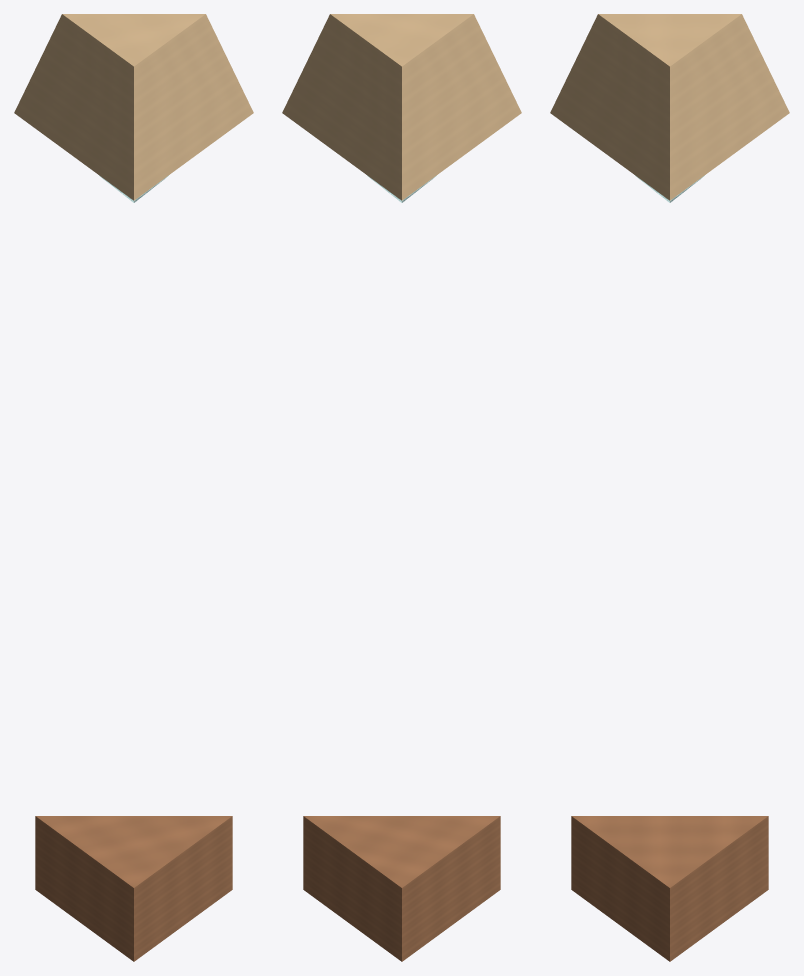
The model's file is atlas100-desertdeco-util01.lod2.glb.
3 renders of one model, left to right at view 1: azimuth 30°, elevation 25°; view 2: azimuth 150°, elevation 25°; view 3: azimuth 270°, elevation 25°, orthographic.
Visible parts, largest first — view 1: atlas100-desertdeco-util01:part-002, atlas100-desertdeco-util01:part-000; view 2: atlas100-desertdeco-util01:part-002, atlas100-desertdeco-util01:part-000; view 3: atlas100-desertdeco-util01:part-002, atlas100-desertdeco-util01:part-000.
Part boxes in pixels (x1,y1,x2,y2): atlas100-desertdeco-util01:part-002: (14, 14, 253, 200); atlas100-desertdeco-util01:part-000: (35, 816, 232, 961); atlas100-desertdeco-util01:part-002: (282, 14, 521, 200); atlas100-desertdeco-util01:part-000: (303, 816, 500, 961); atlas100-desertdeco-util01:part-002: (550, 14, 789, 200); atlas100-desertdeco-util01:part-000: (571, 816, 768, 961).
Size of the model in its own units: 0.5217 by 2.44 by 0.6024.
Materials: 3 (3 with a texture image).
